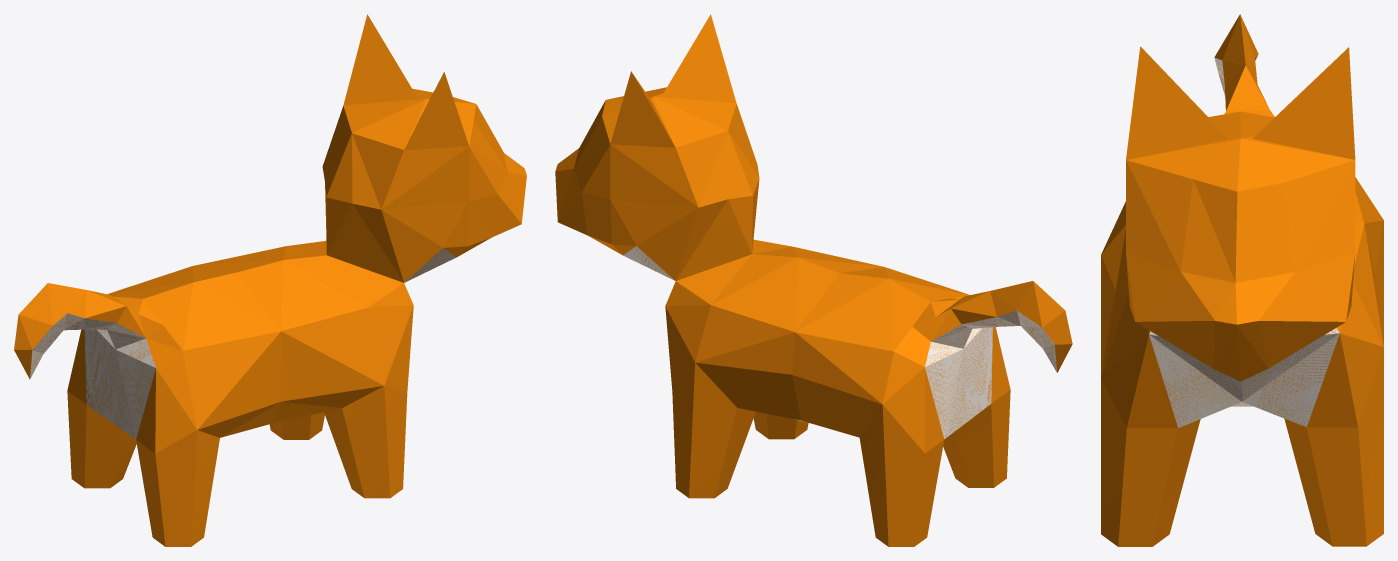
File: Cat.dae
3 views of the same model, side by side, from view 1: azimuth 30°, elevation 25°; view 2: azimuth 150°, elevation 25°; view 3: azimuth 270°, elevation 25° (orthographic). The views are drawn at different scales.
Visible parts, largest first — view 1: Cat (×2); view 2: Cat (×2); view 3: Cat (×2).
Boxes of the visible parts, x1=… form: Cat (×2): x1=14, y1=14, x2=526, y2=546; Cat (×2): x1=555, y1=14, x2=1072, y2=546; Cat (×2): x1=1101, y1=14, x2=1383, y2=546.
Bounding box in the file's own units: 118 × 42.19 × 87.74.
